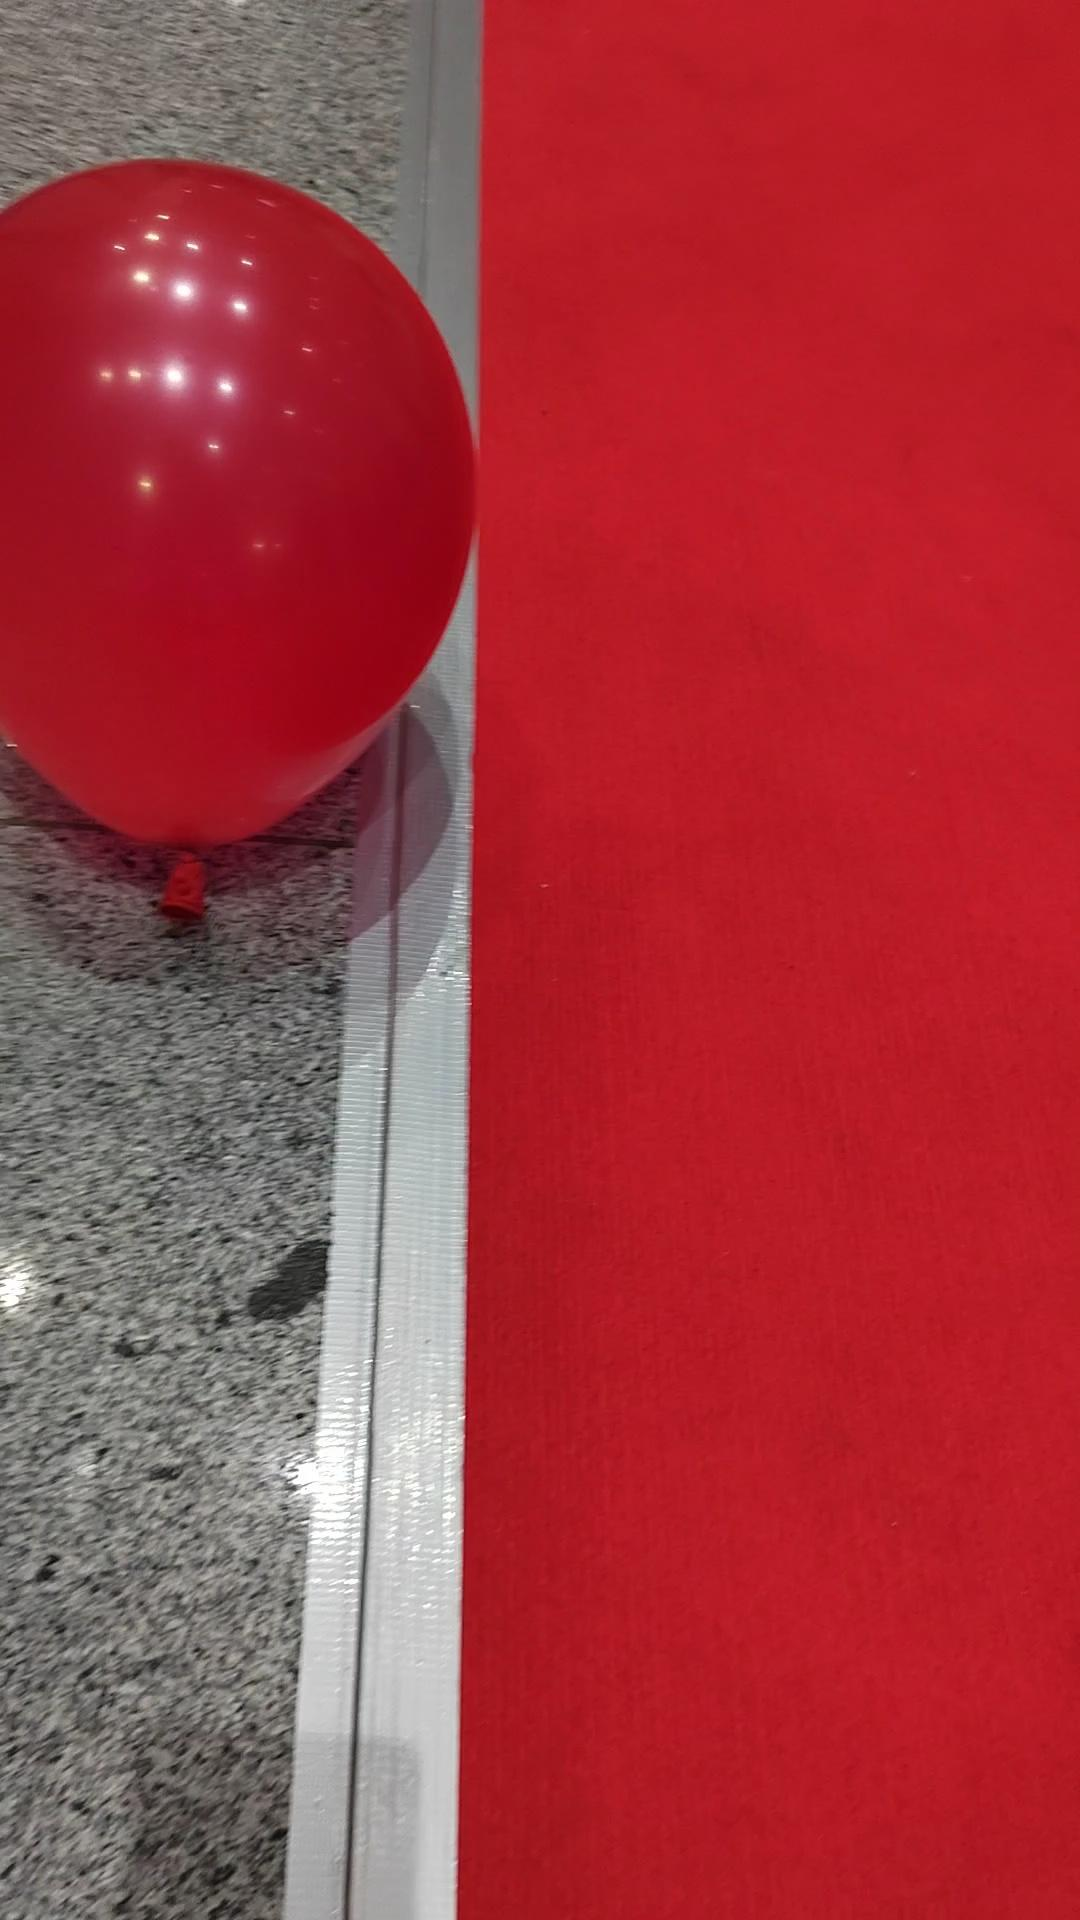red: (0, 150, 487, 884)
